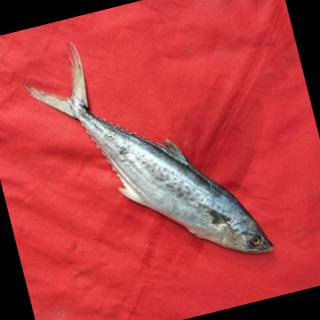Ikan: (18, 4, 288, 310)
